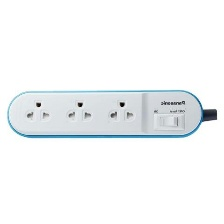three_eye_plug: (5, 87, 206, 140)
